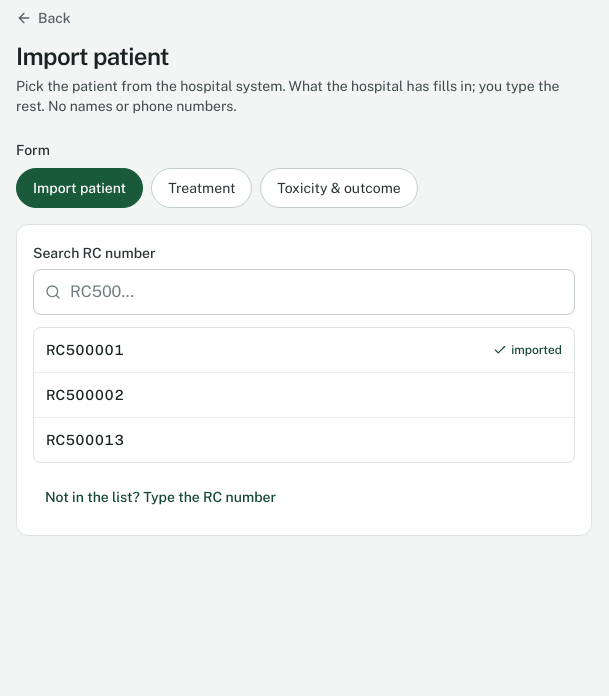
Test case: ImportPatientPage › an RC the hospital does not know says so and opens manual entry
The width and height of the screenshot is (609, 696).
What coordinates should you click on to do the following:
click the button "RC500002"
I would click on:
 (85, 395)
Its box is [34,373,574,417].
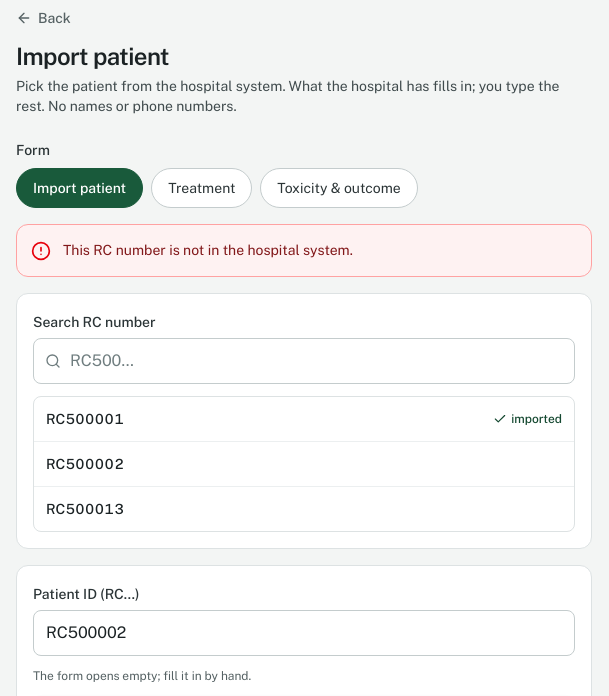
expect the message reads "This RC number is not in the hospital system.": met, box [63,242,353,258]
expect the field labelled "Patient ID (RC…)" holds "RC500002": met, box [33,610,575,656]
